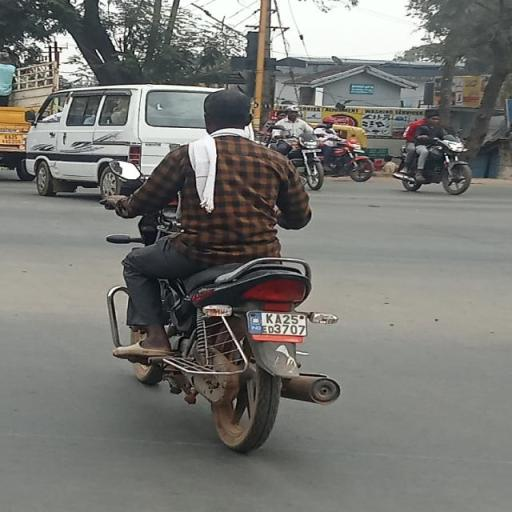bike: (99, 86, 365, 456)
numberplate: (250, 313, 306, 339)
withouthelmet: (206, 92, 250, 131)
